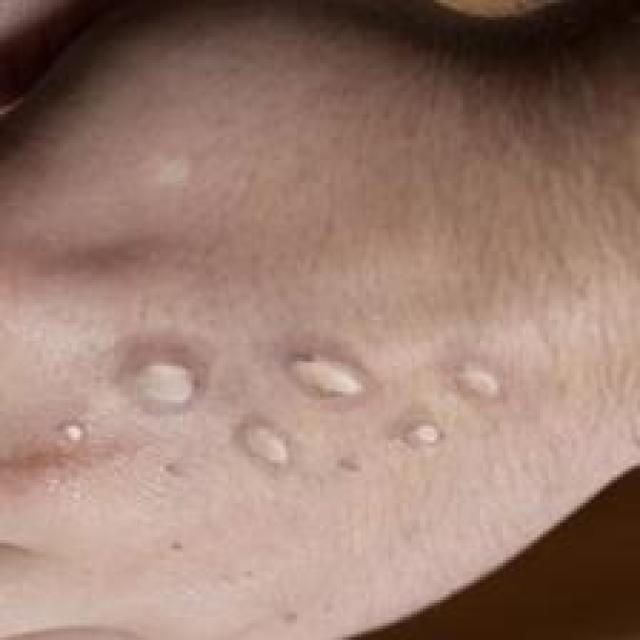monkeypox: (0, 197, 546, 570)
